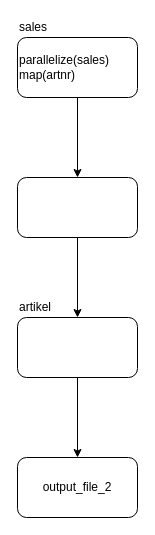
Some shapes in this 155 by 535 pixel diagram are drawn without their labels. Each missing label, with the centre of its shape:
"output_file_1" belongs at point (77, 207).
"parallelize(artikel) filter(artnr in outputf_file_1) map(*)" belongs at point (77, 347).
